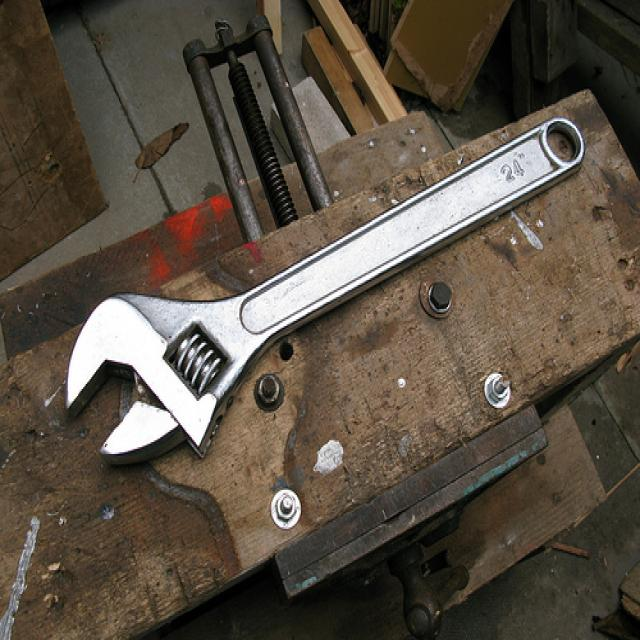wrench: (54, 118, 640, 465)
